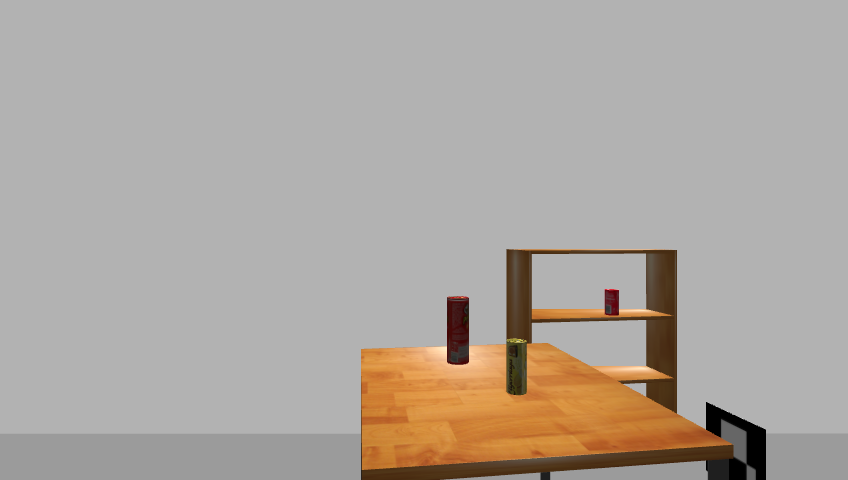aruco marker: (699, 401, 772, 479)
biscuits pack: (505, 339, 528, 397)
bookshelf: (501, 245, 684, 428)
coke can: (602, 288, 621, 316)
dinner table: (355, 341, 737, 480)
pringles can: (444, 295, 472, 366)
